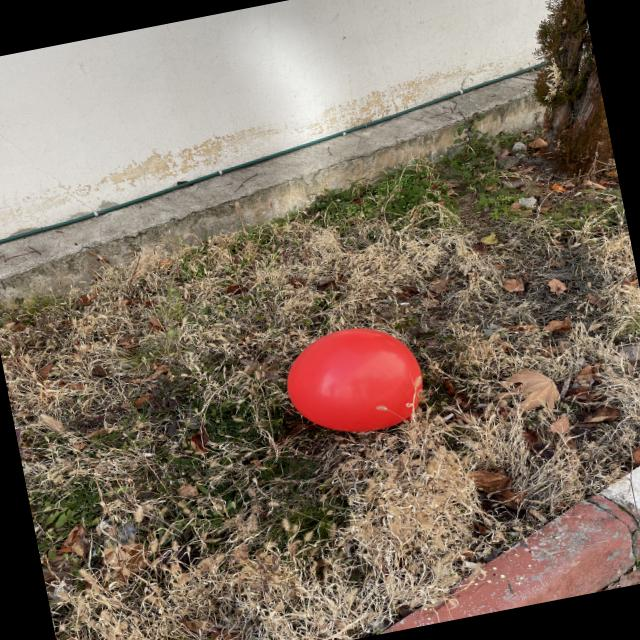balloon: (288, 329, 423, 431)
